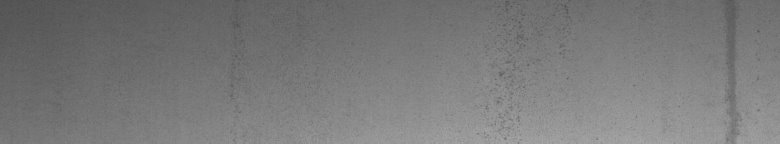ib: (486, 4, 568, 128)
